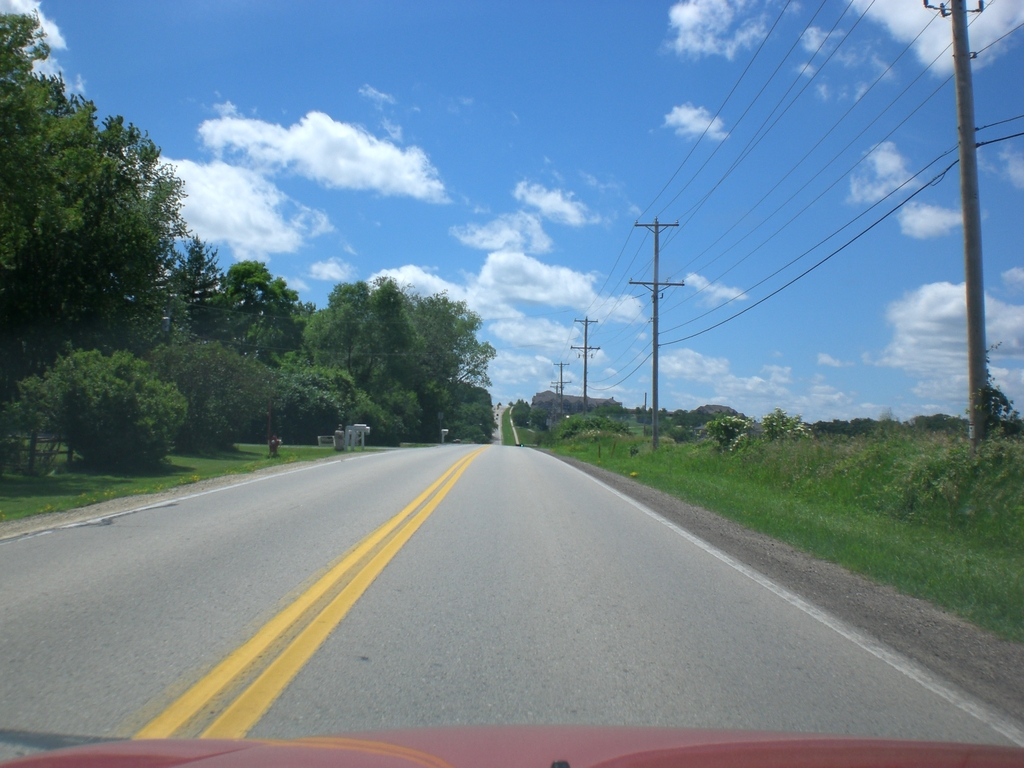Tree: (0, 7, 1023, 470)
